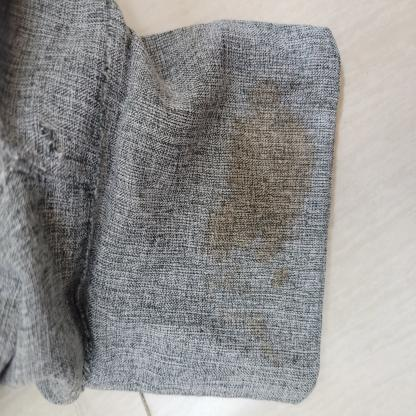spot: (204, 38, 314, 299), (237, 299, 301, 374)
